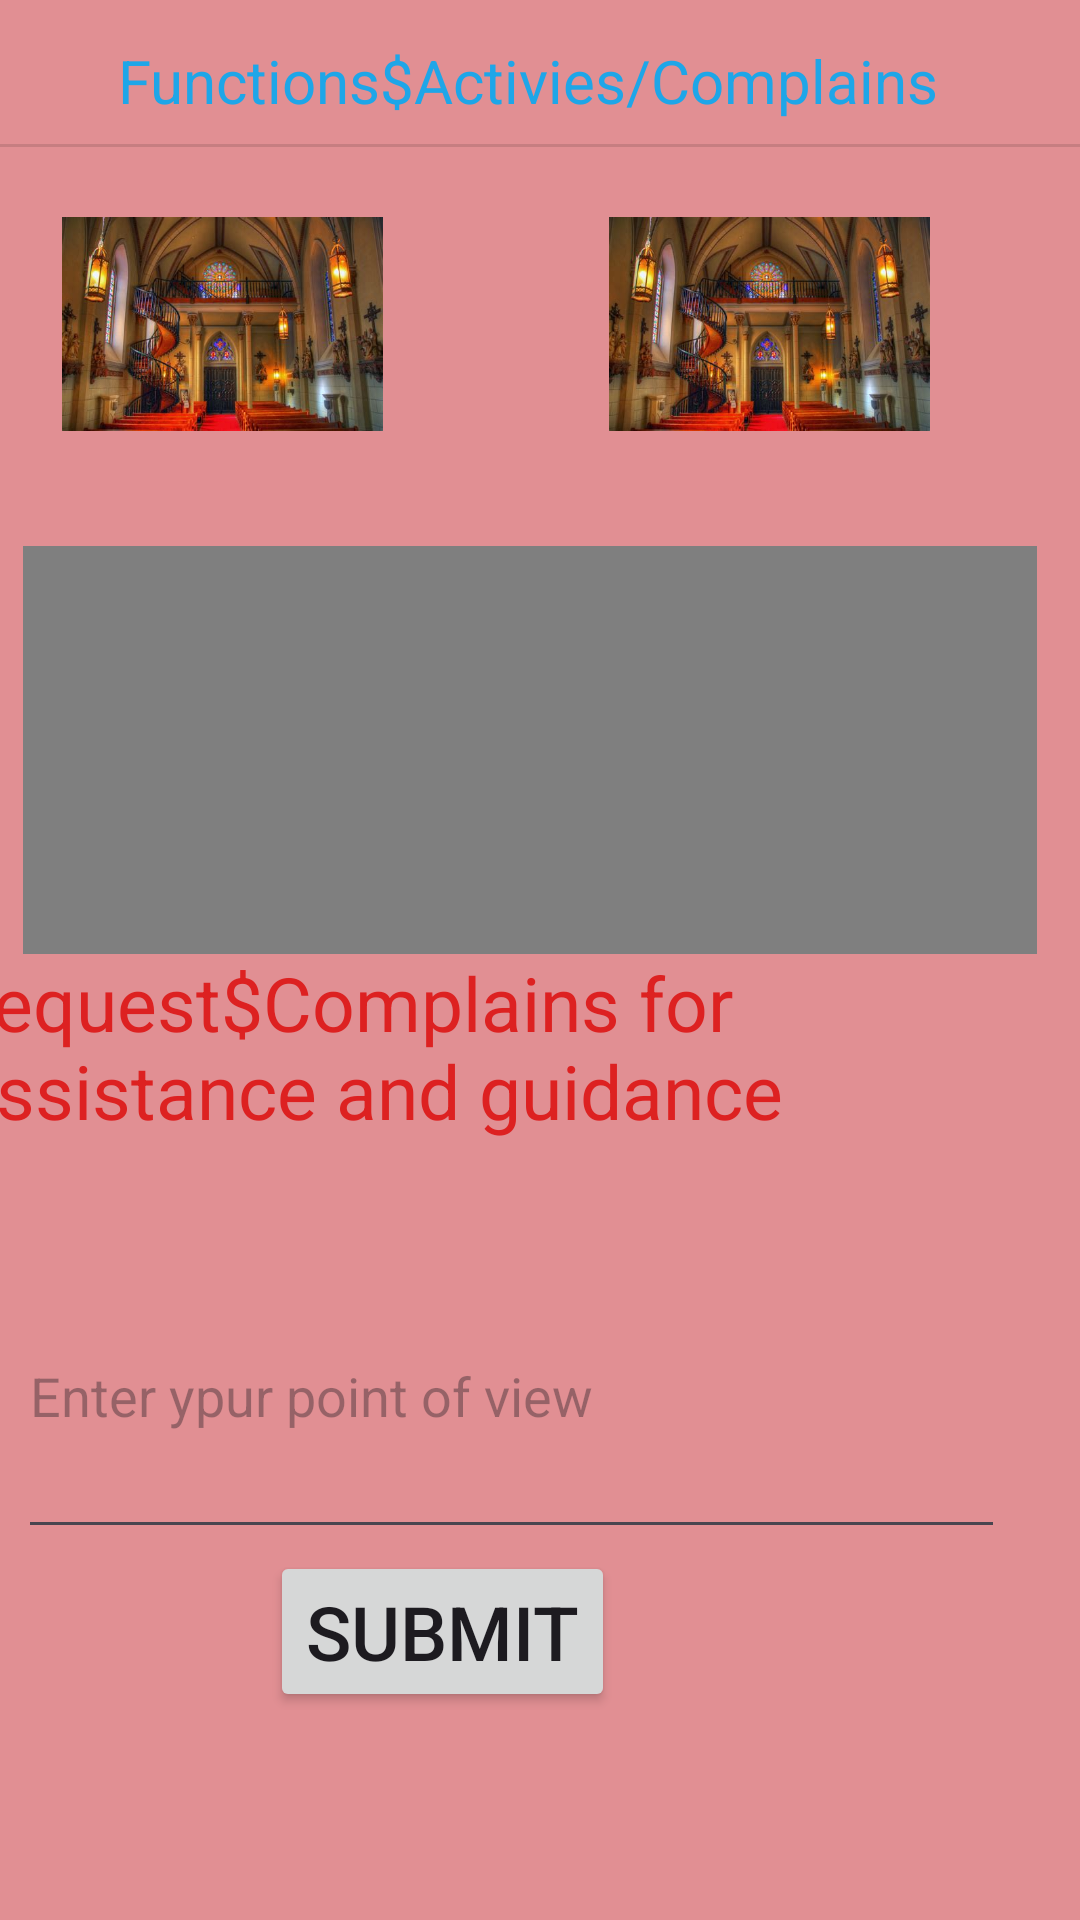

Icons on this 1080w x 1920h Android screen, each with its box as (x1, y1, x2, y2):
church: (62, 217, 383, 431), (609, 217, 930, 431)
